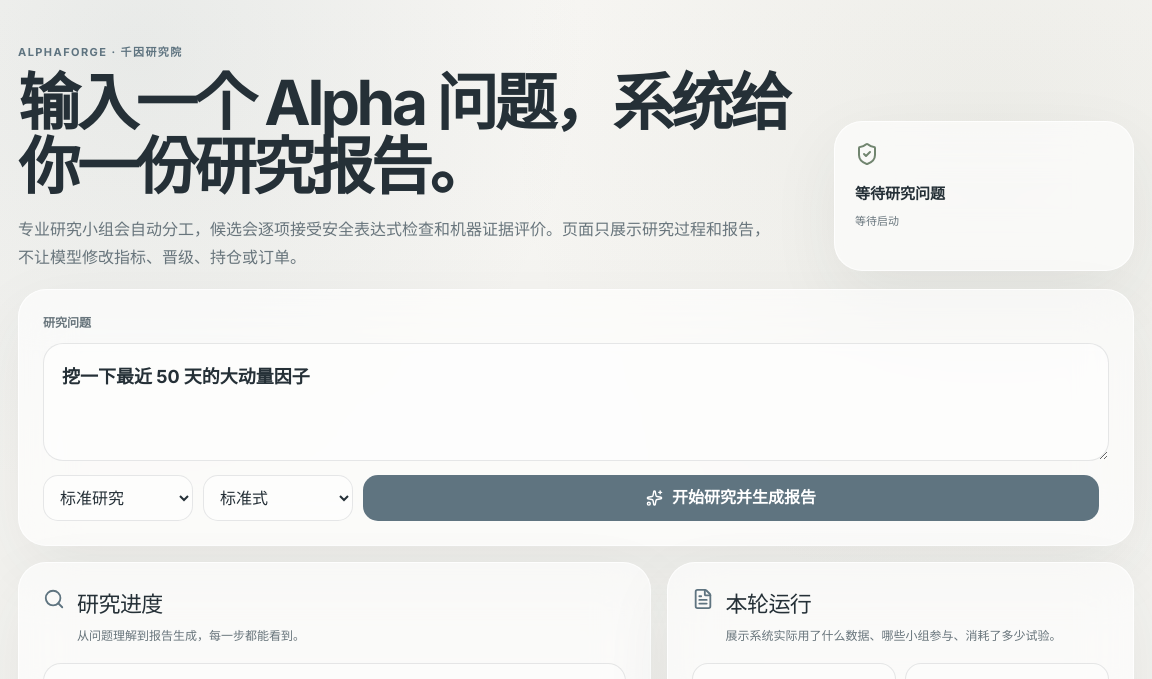
AlphaForge 单入口研究终端 › 数据不可用时输出清楚原因，不继续启动模型
Click the button "开始研究并生成报告" at x=731, y=498, box [363, 475, 1099, 521]
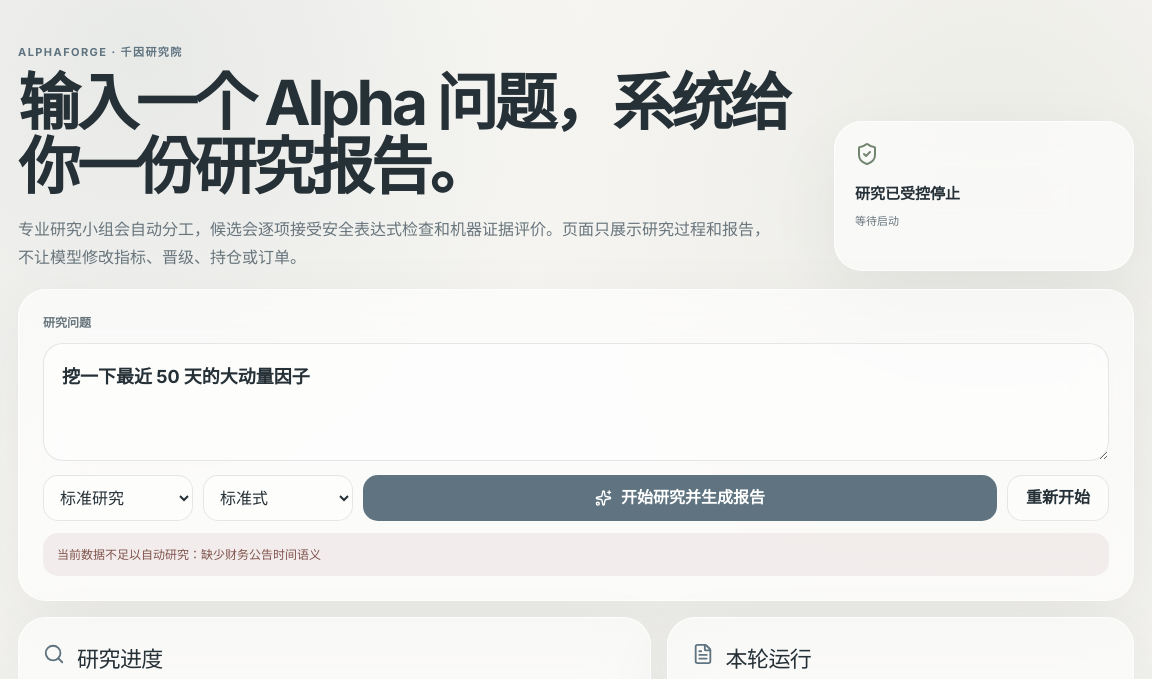
Expected: the text "当前数据不足以自动研究：缺少财务公告时间语义" is shown, [43, 533, 1109, 576]
